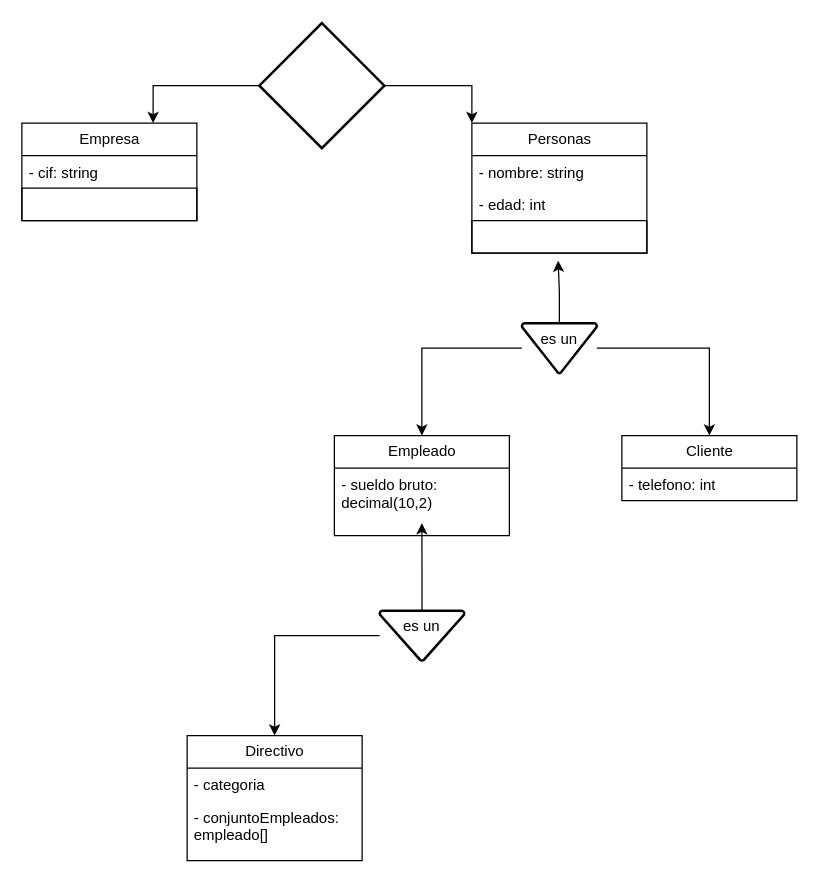
The diagram is 819 pixels wide and 885 high, and some of its shapes have lost their labels. Each missing label, with the centre of its shape:
+ consultarDatos(): void: point 559,236
consultarDatos(): point 109,204
tiene: point 321,85
